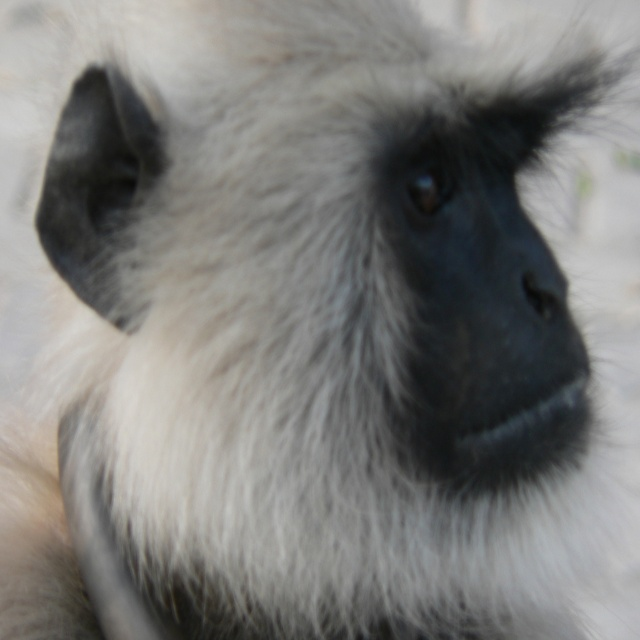Monkey: (32, 13, 638, 640)
